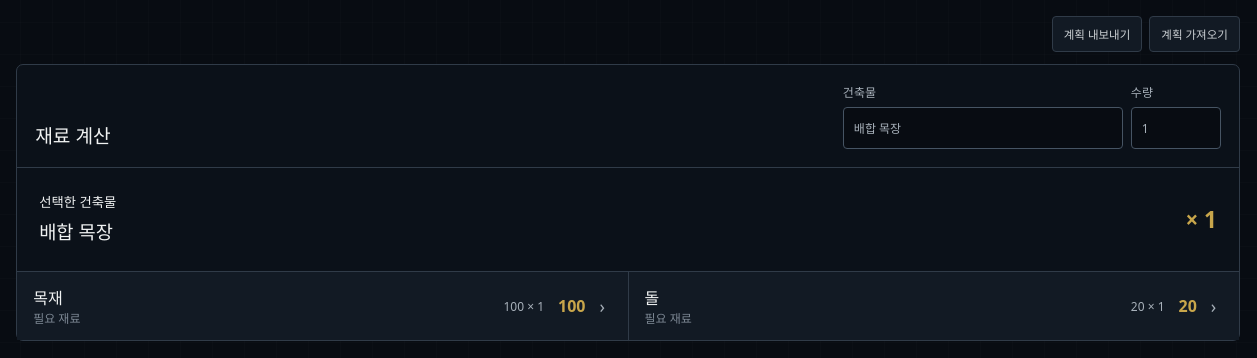
Test case: ToolsBoard › calculates materials inside the same responsive workspace
The image size is (1257, 358).
Replace the text in the number field labelled "수량" with "5" at (1176, 128), box [1131,107,1221,149]
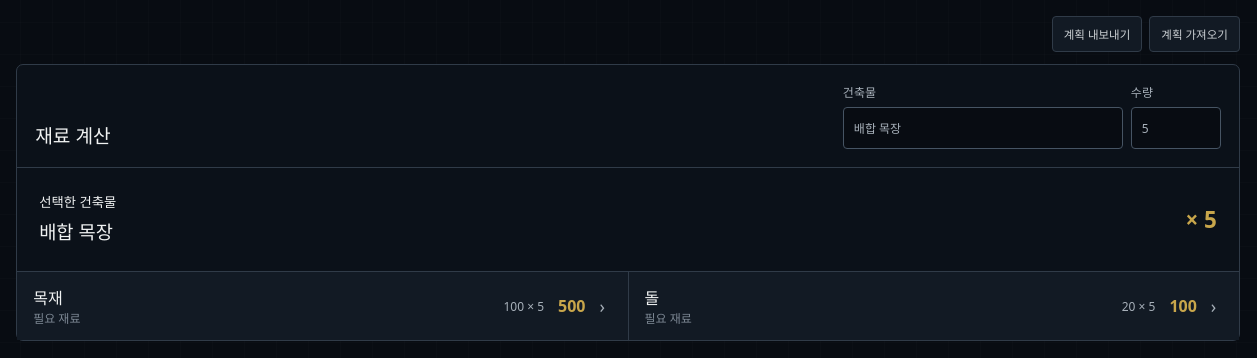
Expected: the text "500" is shown, [558,295,586,317]
Expected: the text "100" is shown, [1169,295,1197,317]
